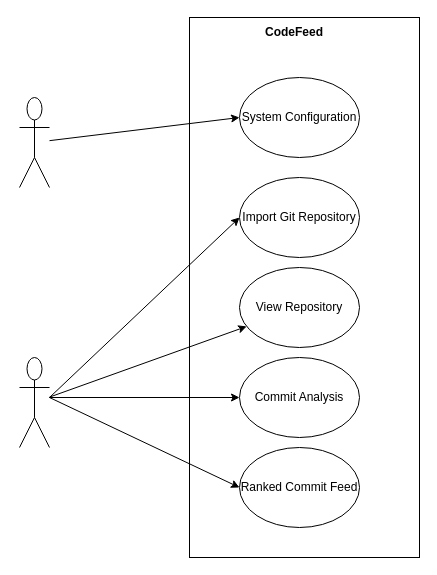
This 437x575 diagram has some shape labels left out. Each missing label, with the centre of its shape:
Admin: the point at 34,142
User: the point at 34,402
